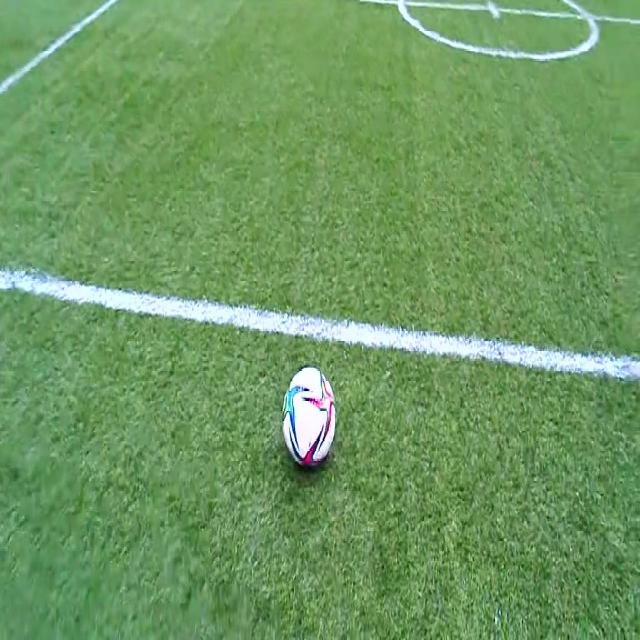ball: (282, 368, 337, 461)
